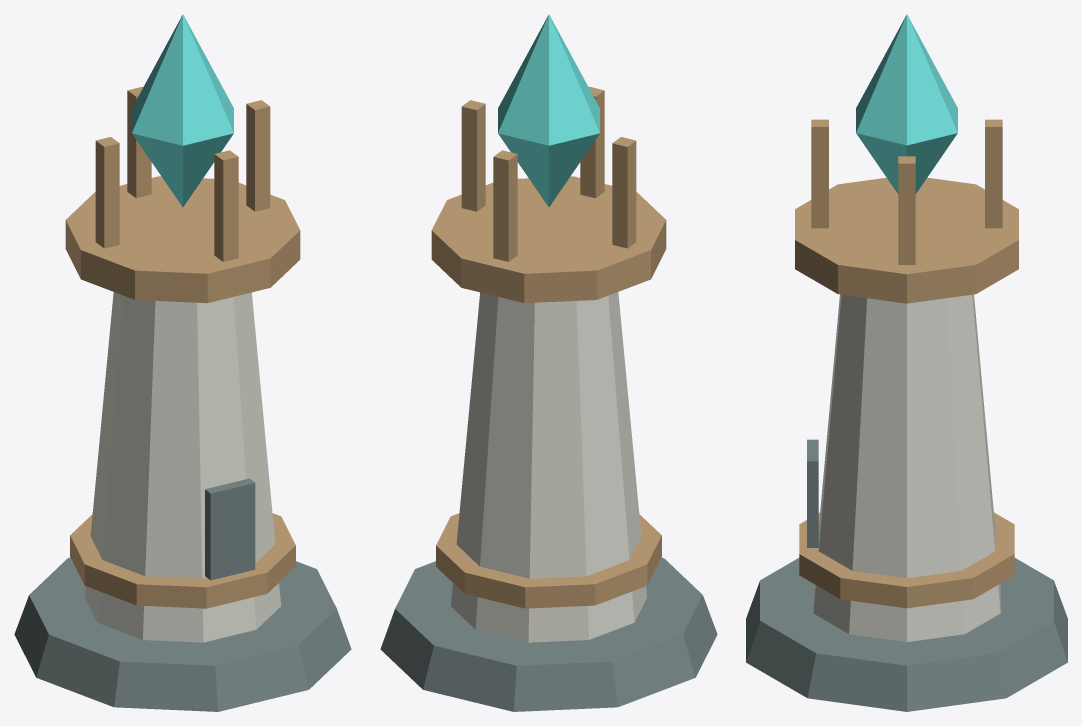
The model's file is demo-wind-beacon.glb.
3 views of the same model, side by side, from view 1: azimuth 30°, elevation 25°; view 2: azimuth 150°, elevation 25°; view 3: azimuth 270°, elevation 25° (orthographic).
Visible parts, largest first — view 1: Tower, Foundation, Crown, Crown prong (×4), Lower ring, Crystal upper, Service hatch, Crystal lower; view 2: Tower, Foundation, Crown, Crown prong (×4), Lower ring, Crystal upper, Crystal lower; view 3: Tower, Foundation, Crown, Crystal upper, Lower ring, Crown prong (×3), Crystal lower, Service hatch.
Boxes of the visible parts, box(x1,y1,x2,y2) form: Tower: box(84, 292, 280, 642); Foundation: box(14, 557, 351, 711); Crown: box(65, 176, 300, 303); Crown prong (×4): box(95, 86, 270, 261); Lower ring: box(70, 513, 295, 608); Crystal upper: box(132, 14, 233, 145); Service hatch: box(205, 478, 255, 580); Crystal lower: box(132, 133, 233, 206); Tower: box(451, 292, 647, 642); Foundation: box(380, 557, 717, 711); Crown: box(431, 176, 666, 303); Crown prong (×4): box(461, 86, 636, 261); Lower ring: box(436, 513, 661, 608); Crystal upper: box(498, 14, 599, 145); Crystal lower: box(498, 133, 599, 206); Tower: box(813, 294, 1000, 641); Foundation: box(746, 558, 1067, 711); Crown: box(795, 177, 1018, 303); Crystal upper: box(856, 14, 957, 145); Lower ring: box(799, 512, 1014, 608); Crown prong (×3): box(811, 119, 1002, 264); Crystal lower: box(856, 133, 957, 193); Service hatch: box(807, 439, 818, 547).
Bounding box in the file's own units: 2.3 × 4.7 × 2.19.
